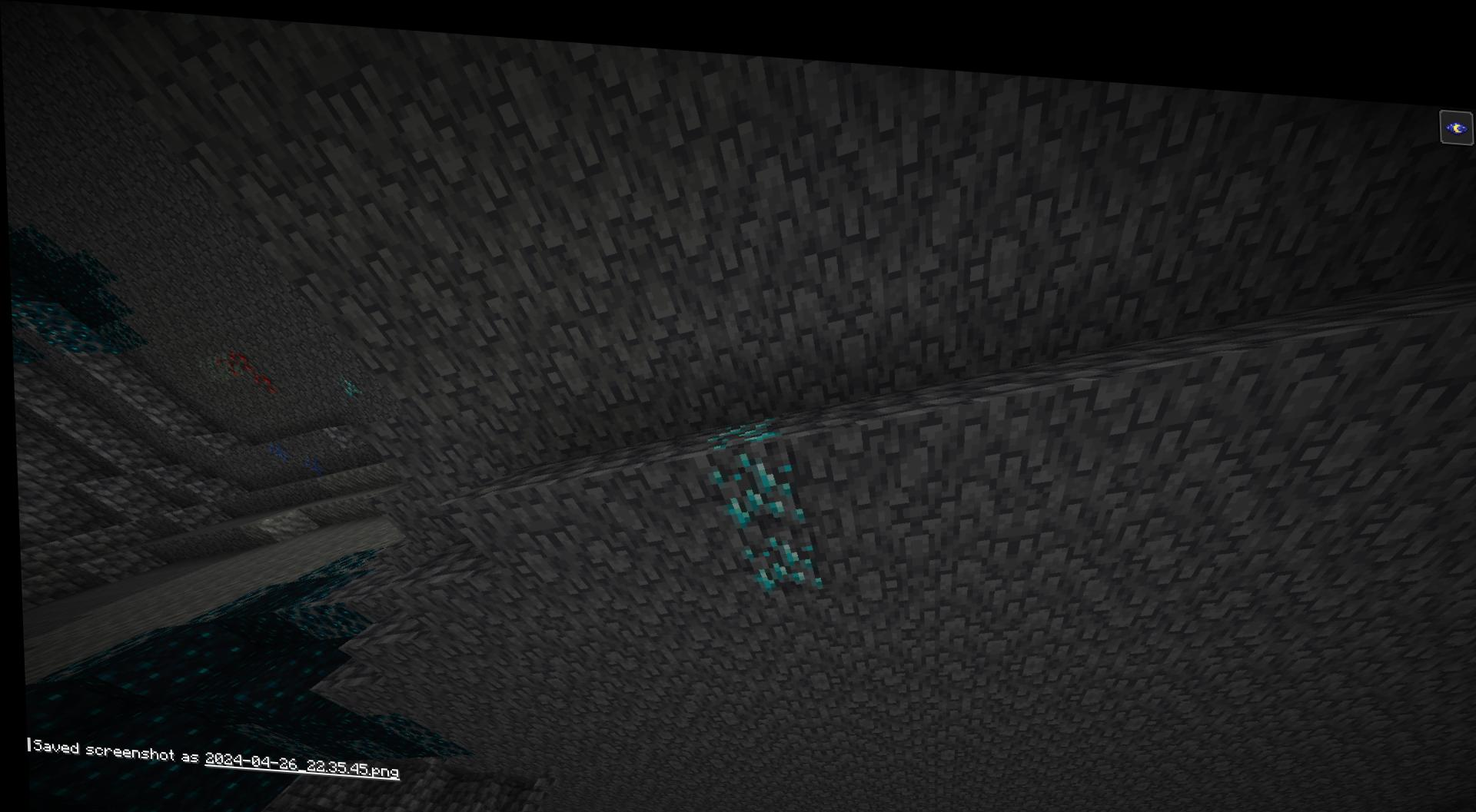diamond ore: (701, 433, 804, 518), (728, 519, 821, 587), (709, 406, 778, 437), (331, 371, 359, 392)
redstone ore: (214, 341, 271, 393)
